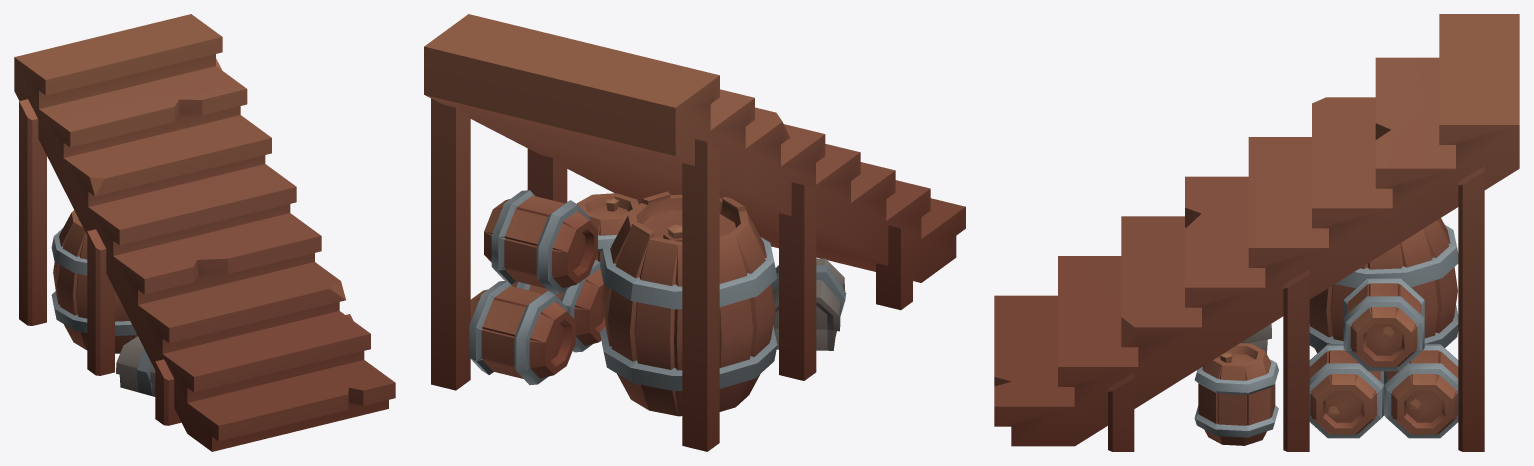
Rendered from fw_stairs_wood.glb.
3 renders of one model, left to right at view 1: azimuth 30°, elevation 25°; view 2: azimuth 150°, elevation 25°; view 3: azimuth 270°, elevation 25°, orthographic. The views are drawn at different scales.
Visible parts, largest first — view 1: body; view 2: body; view 3: body.
Boxes of the visible parts, x1=… form: body: x1=14, y1=14, x2=395, y2=451; body: x1=424, y1=14, x2=965, y2=451; body: x1=994, y1=14, x2=1519, y2=451.
Size of the model in its own units: 1.65 by 2.03 by 3.
